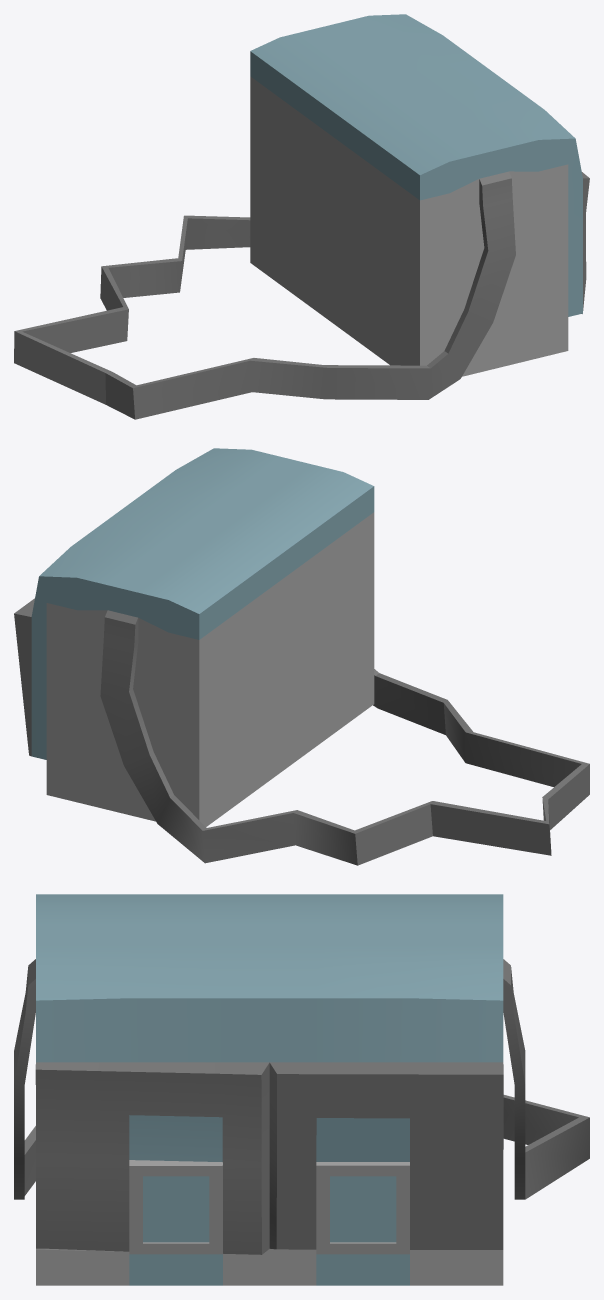
Rendered from Camera_Bag.fbx.
3 views of the same model, one above another, from view 1: azimuth 30°, elevation 25°; view 2: azimuth 150°, elevation 25°; view 3: azimuth 270°, elevation 25° (orthographic). The views are drawn at different scales.
Visible parts, largest first — view 1: Camera_Bag; view 2: Camera_Bag; view 3: Camera_Bag.
Boxes of the visible parts, x1,y1,x2,y2 form: Camera_Bag: [14, 14, 589, 419]; Camera_Bag: [14, 448, 589, 865]; Camera_Bag: [14, 894, 589, 1285].
Size of the model in its own units: 1.59 by 0.7449 by 1.23.
